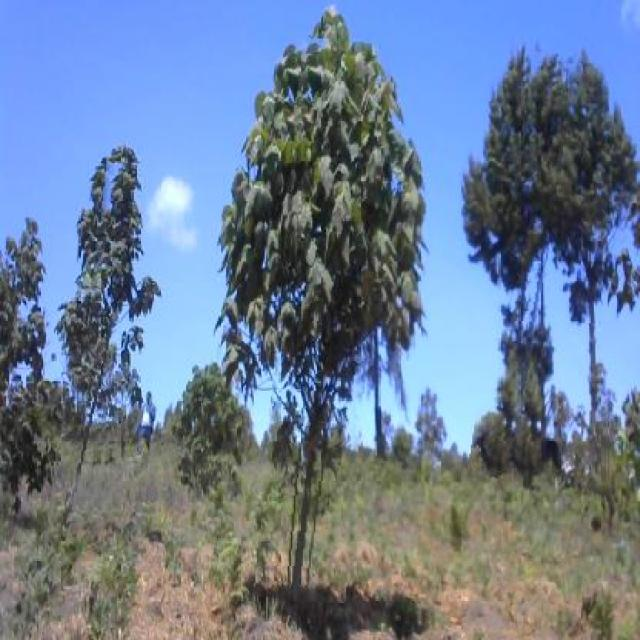tree trunk: (267, 39, 382, 603), (483, 52, 562, 480), (563, 63, 612, 494), (73, 162, 125, 538)
